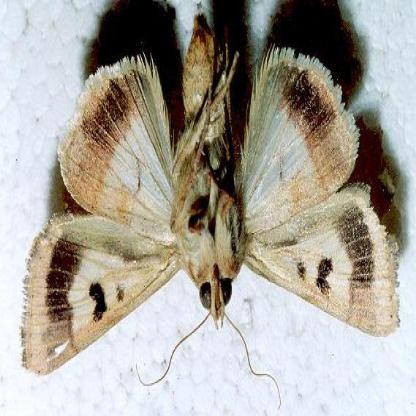helicoverpa: (21, 10, 401, 377)
